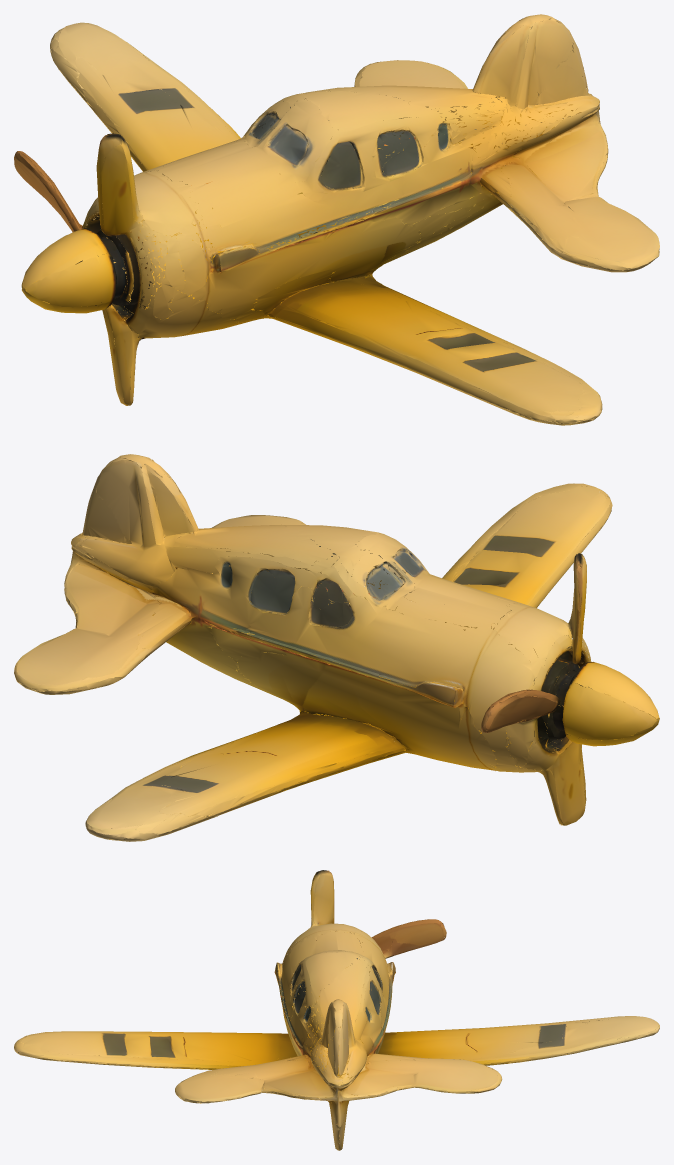
The model's file is hunyuan-plane-wreck.glb.
The picture shows the model from 3 angles, top to bottom: view 1: azimuth 30°, elevation 25°; view 2: azimuth 150°, elevation 25°; view 3: azimuth 270°, elevation 25°; orthographic projection. The views are drawn at different scales.
Parts seen in each view (by area): view 1: node_0; view 2: node_0; view 3: node_0.
Boxes of the visible parts, left/top/right/bottom form: node_0: left=14, top=14, right=659, bottom=425; node_0: left=14, top=454, right=659, bottom=841; node_0: left=14, top=870, right=659, bottom=1150.
Bounding box in the file's own units: 0.8029 × 0.3593 × 1.2.
1 material, 1 textured.
